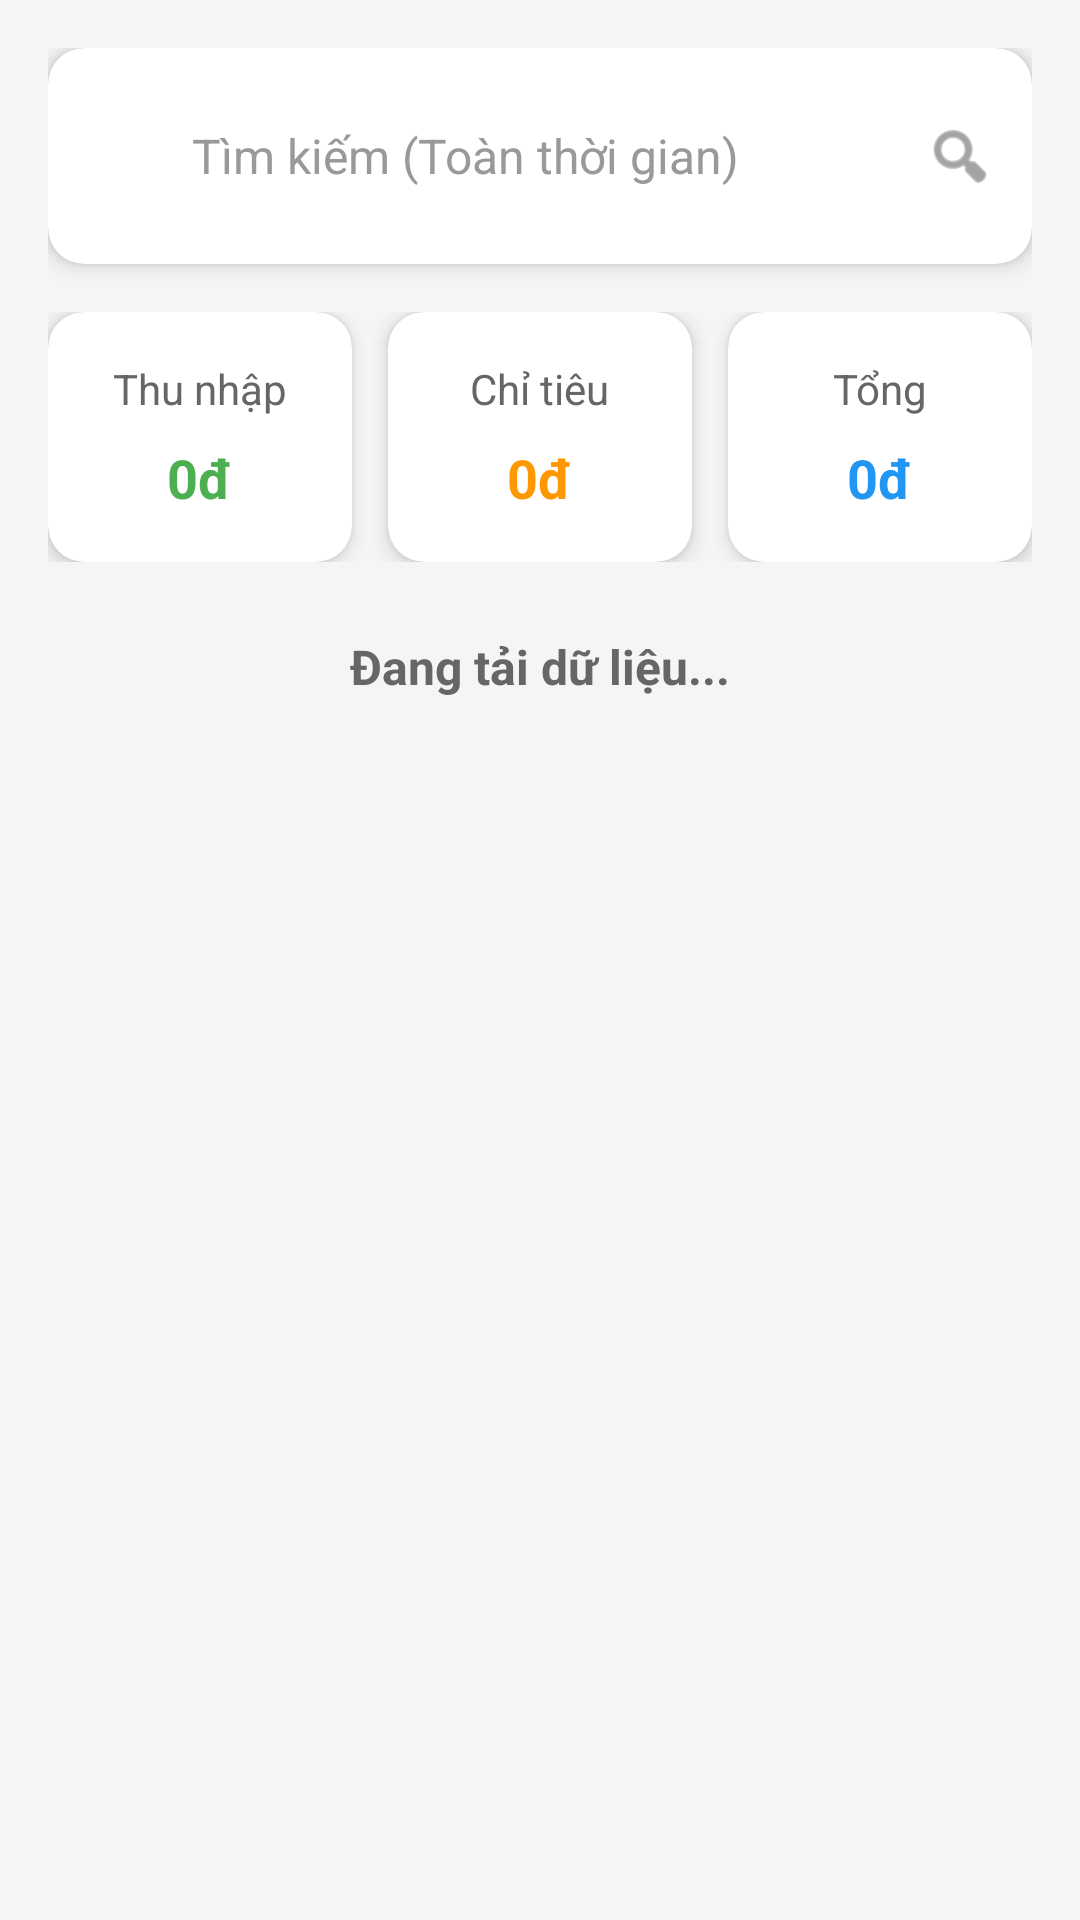

Icons on this 1080px×1920px Android screen, each with the point to tap as [x,y]:
search: [959,156]
